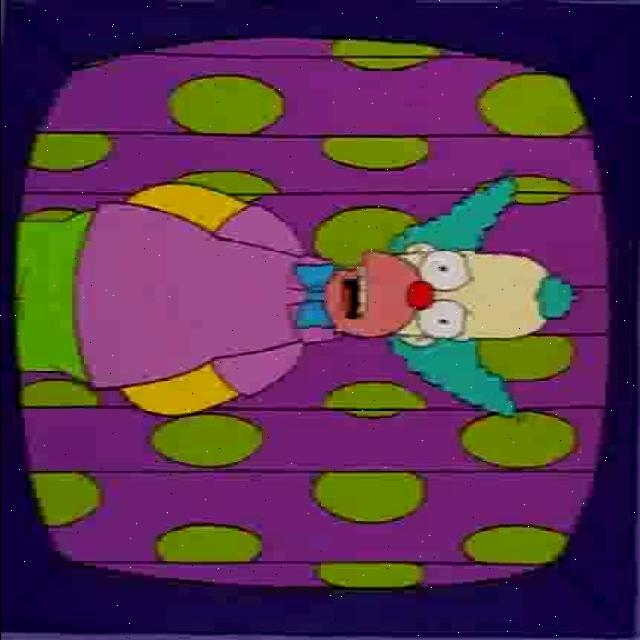Krusty the Clown: (314, 176, 576, 416)
